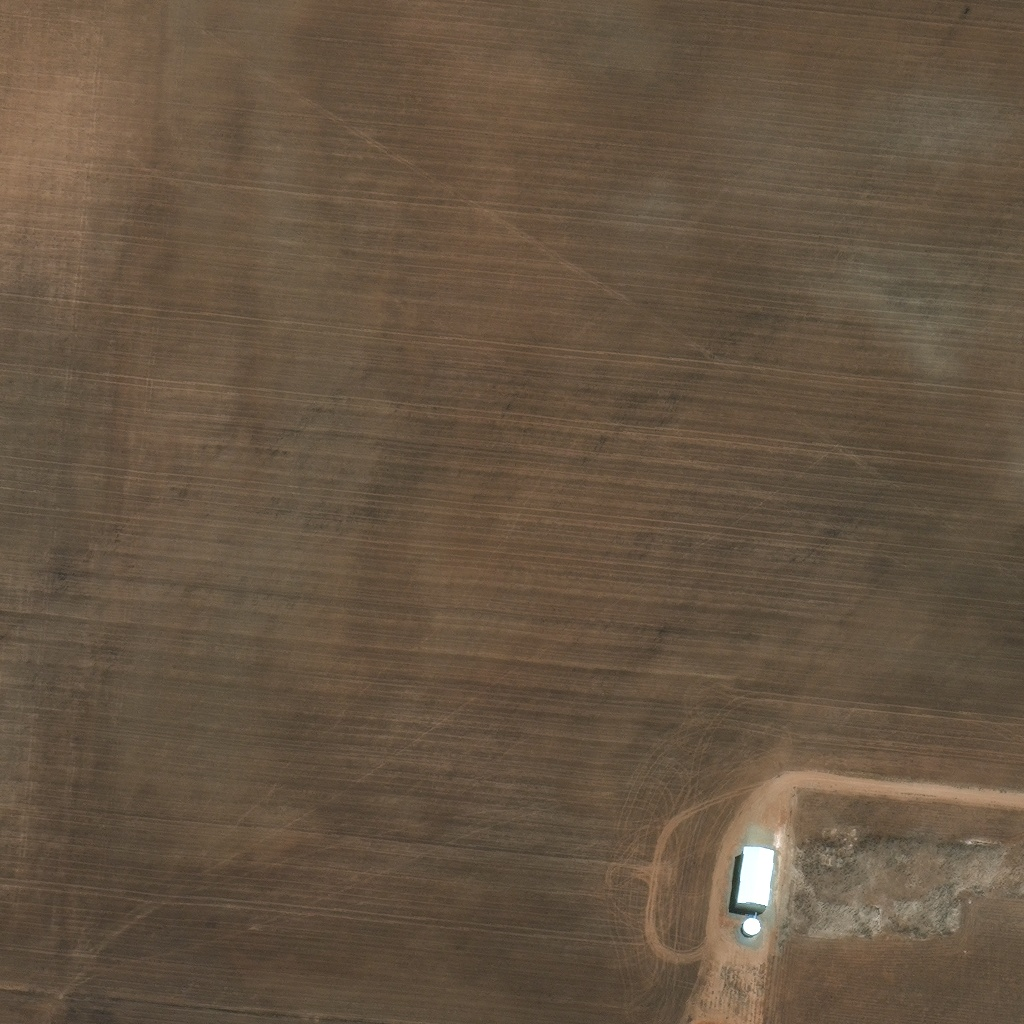0 no-damage: (734, 851, 773, 911)
